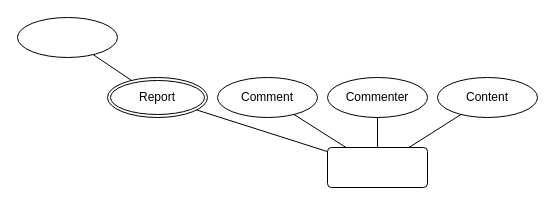
This 555x205 diagram has some shape labels left out. The centre of each missing label's shape, as x and y in pixels:
"ReplyComment" belongs at (x=377, y=167).
"Reporter" belongs at (x=67, y=37).
